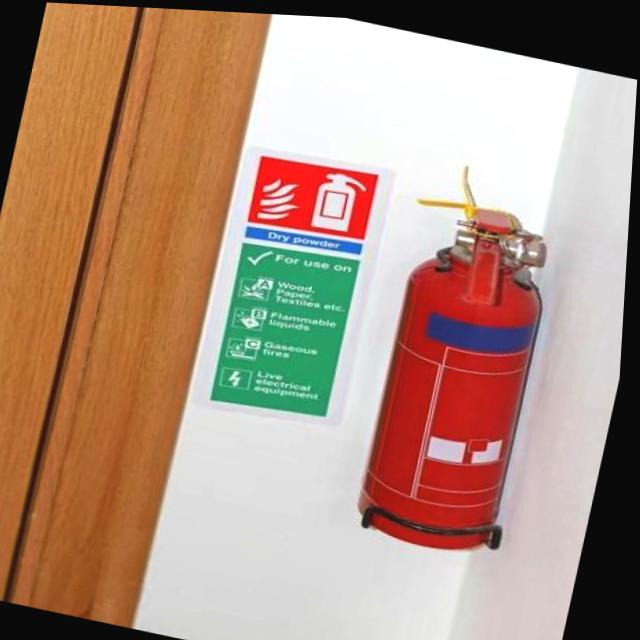FireExtinguisher: (345, 180, 581, 567)
